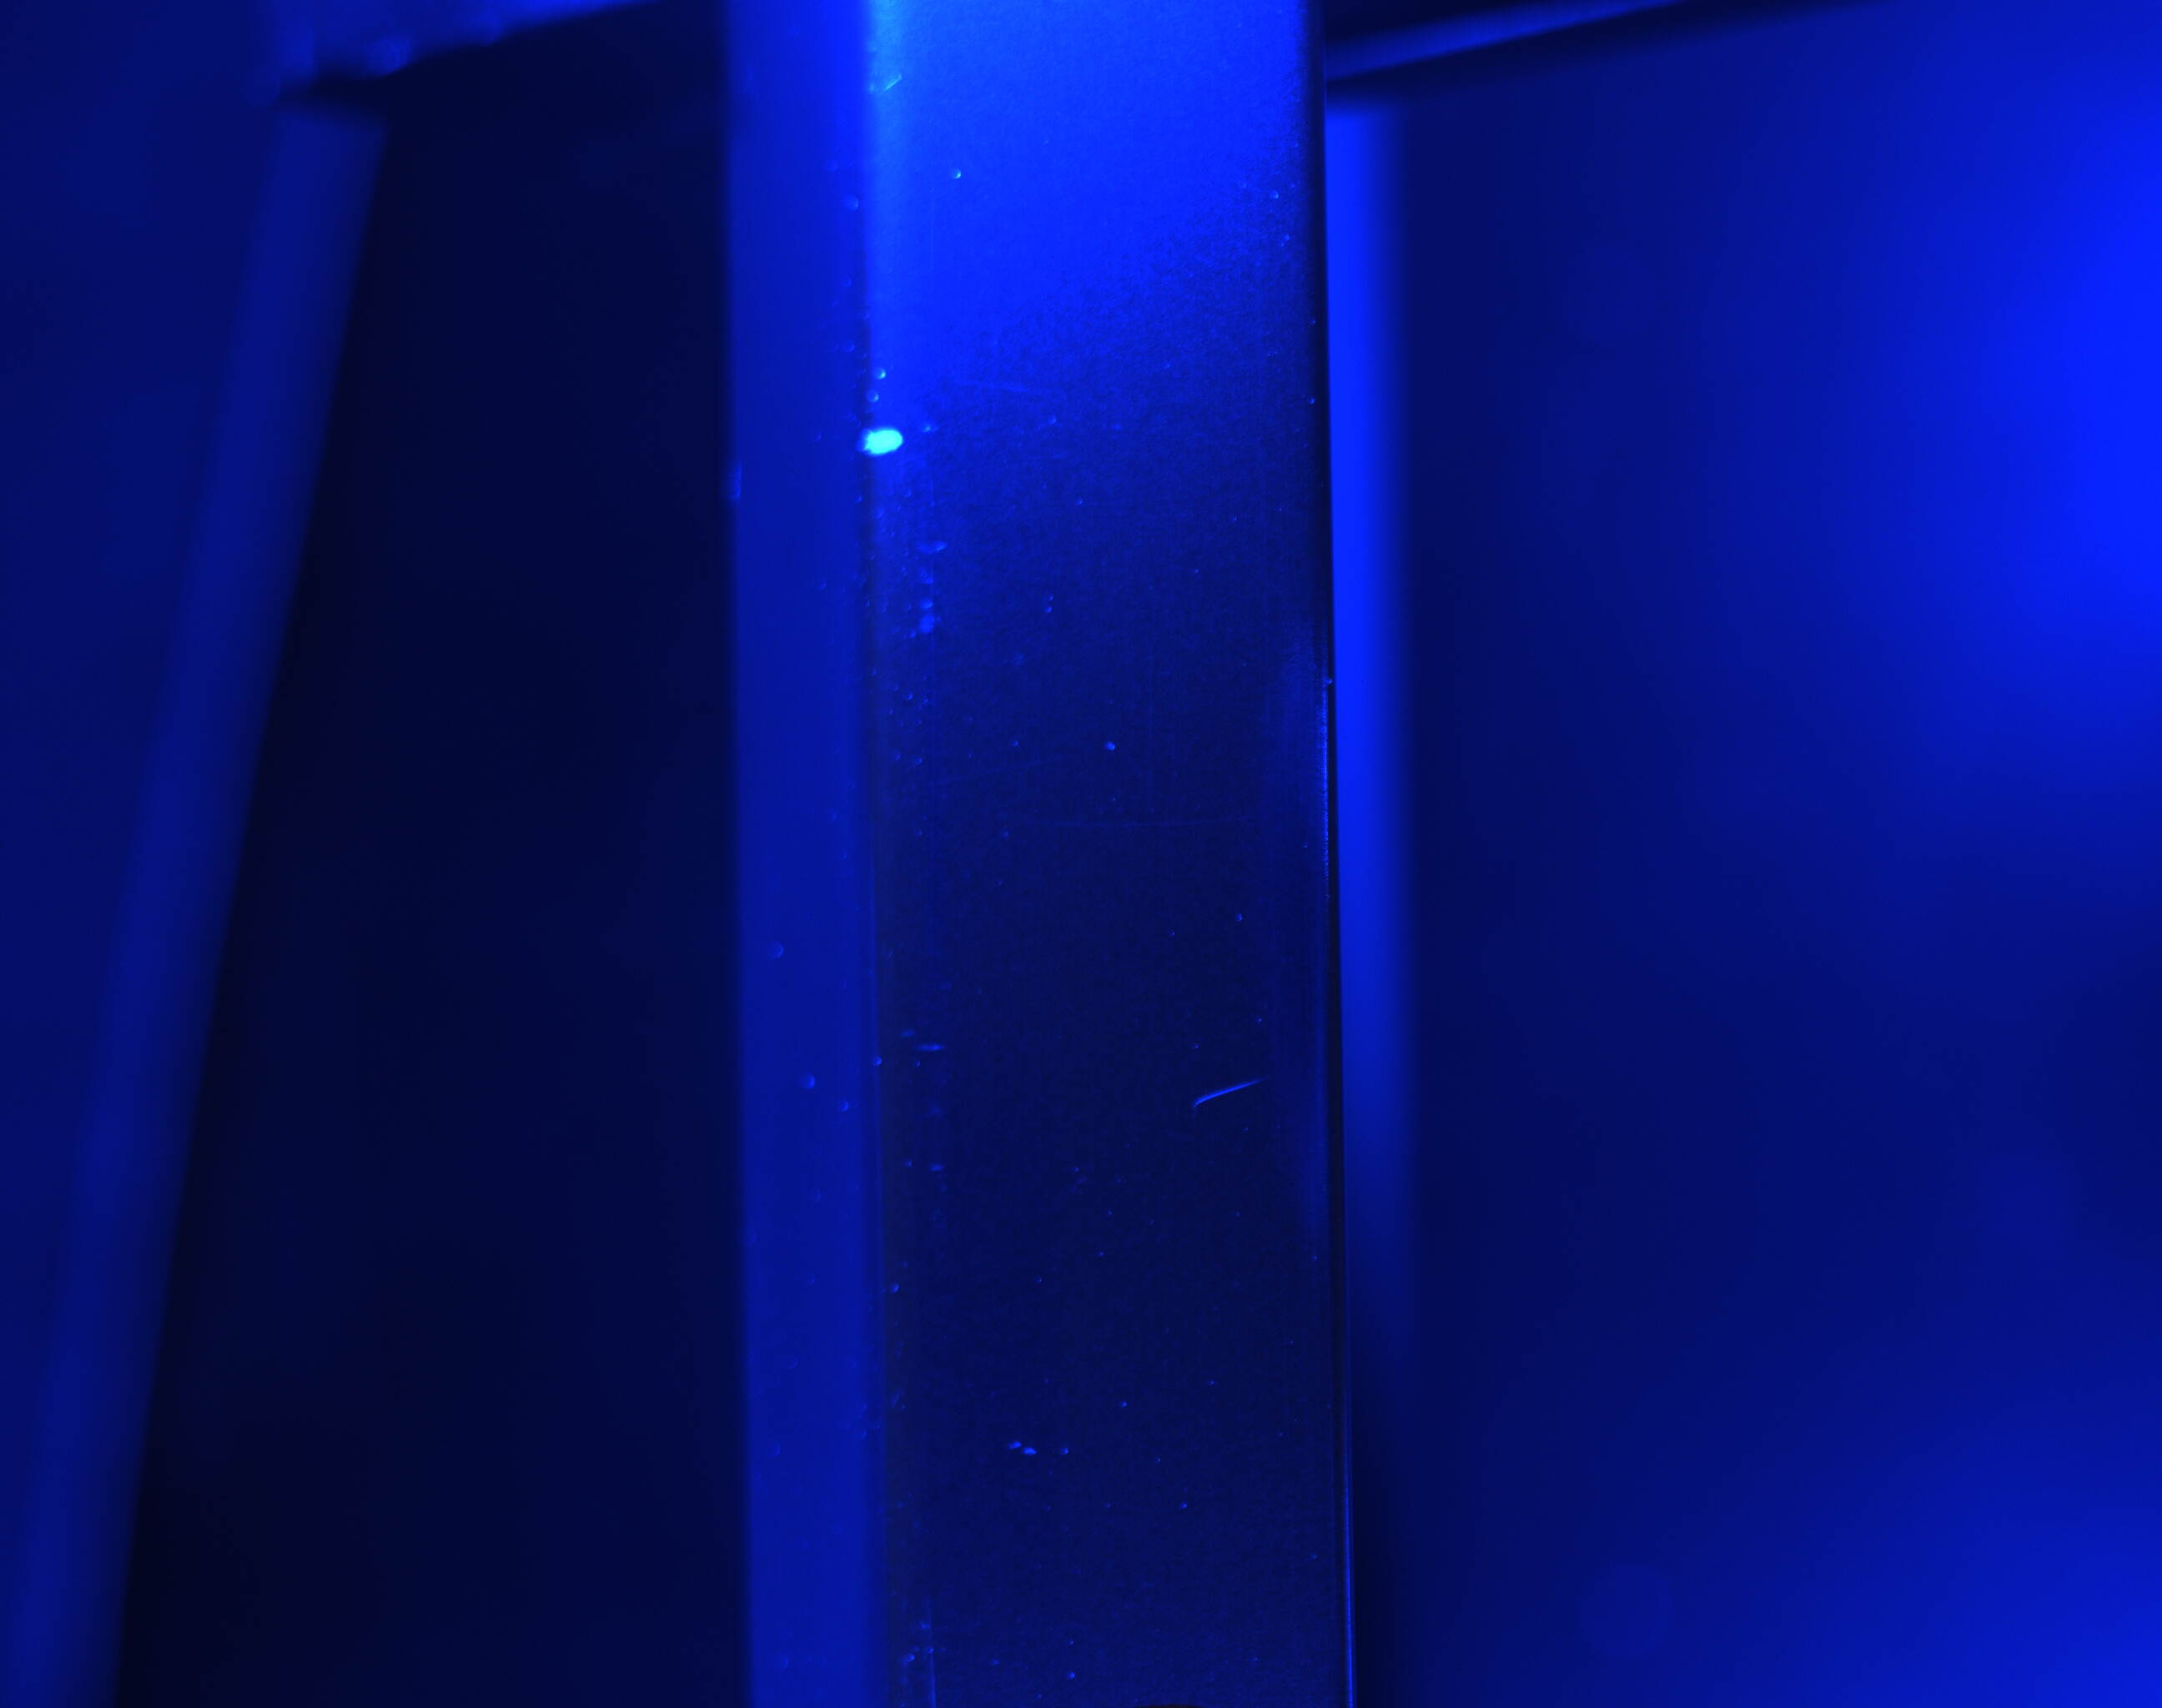NG: (1186, 1055, 1278, 1134), (853, 414, 935, 483)
